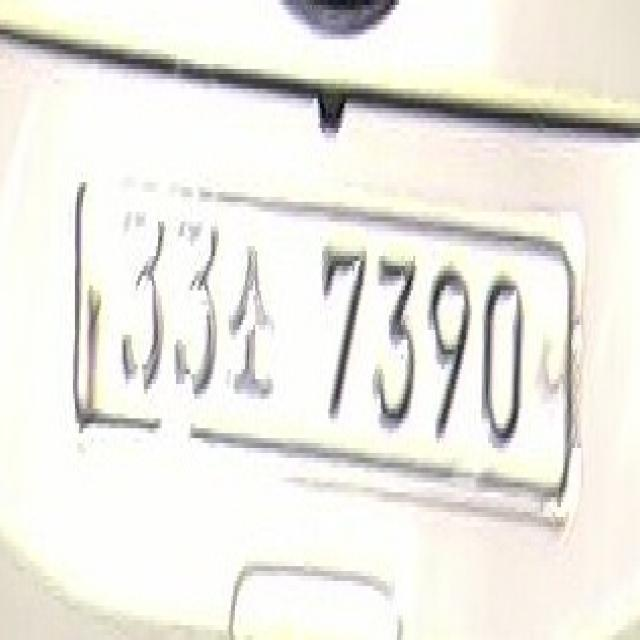0: (480, 266, 523, 448)
3: (176, 197, 221, 409), (124, 202, 168, 394), (373, 246, 415, 433)
7: (318, 236, 367, 418)
9: (427, 261, 470, 438)
license_plate: (77, 172, 571, 512)
so: (223, 241, 275, 404)
